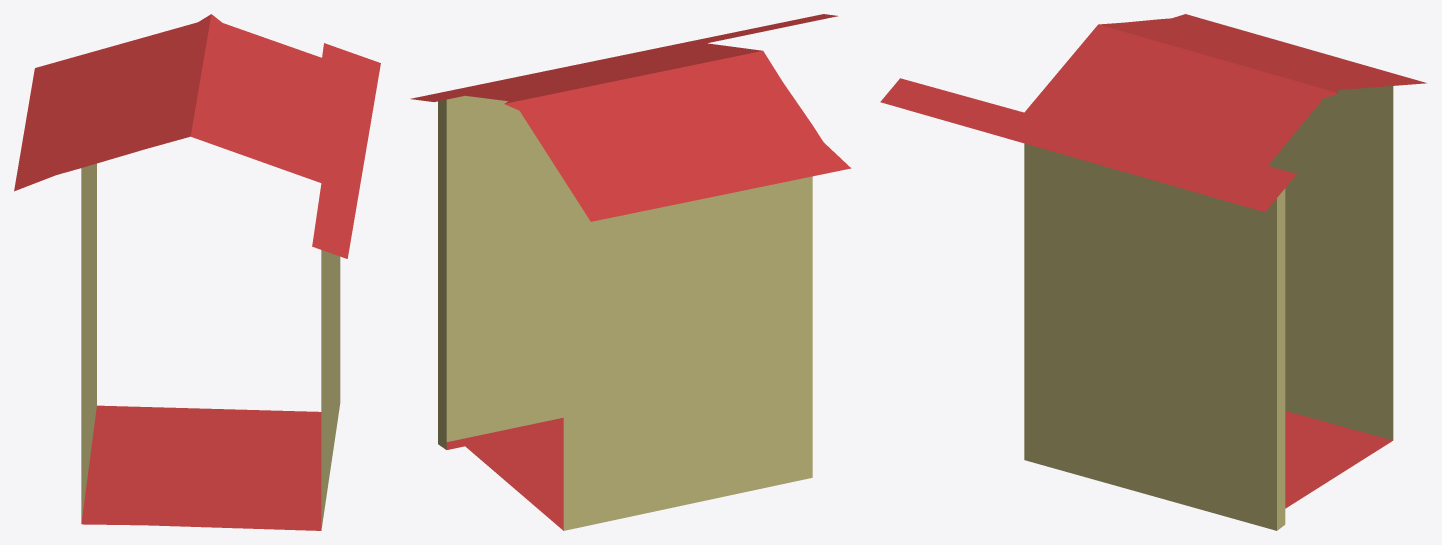
The picture shows the model from 3 angles, left to right: view 1: azimuth 30°, elevation 25°; view 2: azimuth 150°, elevation 25°; view 3: azimuth 270°, elevation 25°; orthographic projection.
Parts seen in each view (by area): view 1: group_3, group_6, group_5, group_4; view 2: group_5, group_3, group_6, group_4; view 3: group_5, group_3, group_6, group_4.
Boxes of the visible parts, bbox=[...] form: group_3: bbox=[14, 14, 380, 258]; group_6: bbox=[81, 405, 321, 530]; group_5: bbox=[81, 163, 340, 529]; group_4: bbox=[35, 45, 378, 254]; group_5: bbox=[438, 95, 812, 530]; group_3: bbox=[410, 14, 851, 221]; group_6: bbox=[446, 417, 563, 530]; group_4: bbox=[438, 15, 821, 220]; group_5: bbox=[1024, 86, 1393, 530]; group_3: bbox=[880, 14, 1426, 212]; group_6: bbox=[1285, 411, 1392, 508]; group_4: bbox=[887, 19, 1422, 207].
Size of the model in its own units: 10.02 by 11.69 by 9.18.
